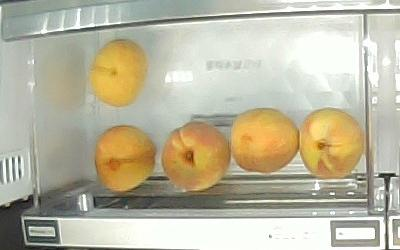peach: (161, 121, 230, 188), (299, 108, 365, 178), (229, 109, 300, 173), (94, 124, 157, 193), (90, 38, 151, 107)
